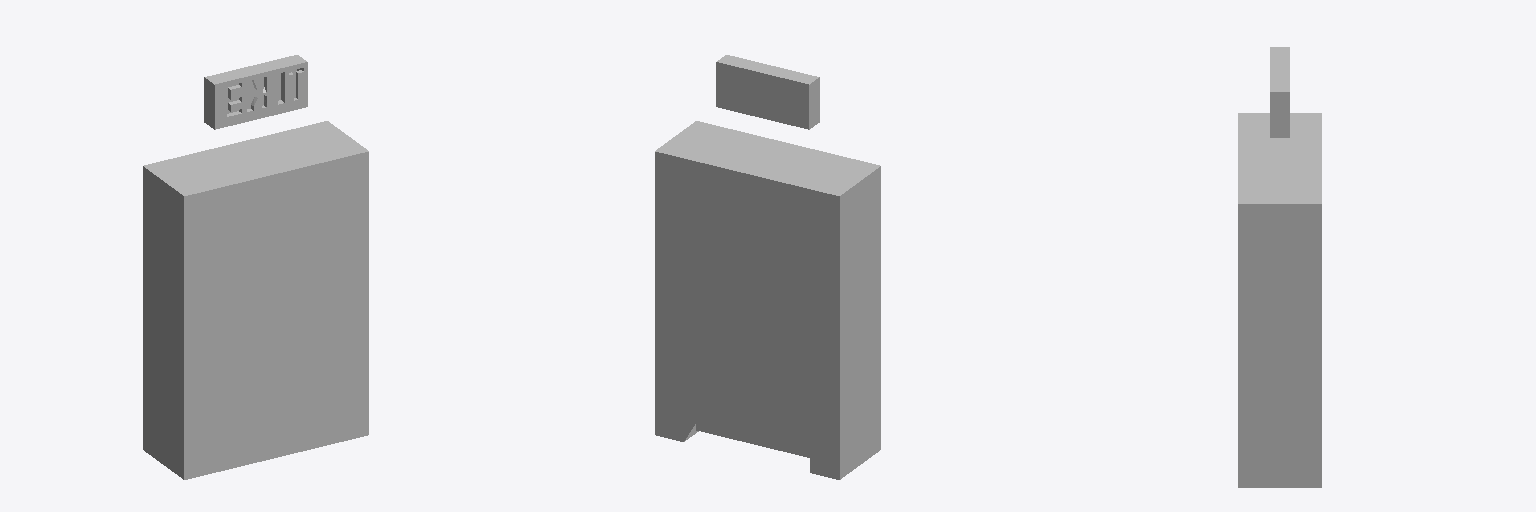
Rendered from exitDoor.obj.
3 views of the same model, side by side, from view 1: azimuth 30°, elevation 25°; view 2: azimuth 150°, elevation 25°; view 3: azimuth 270°, elevation 25° (orthographic).
Visible parts, largest first — view 1: pCube6, pCube7; view 2: pCube6, pCube7; view 3: pCube6, pCube7.
Part boxes in pixels (bbox=[...]): pCube6: bbox=[143, 121, 368, 479]; pCube7: bbox=[204, 55, 307, 129]; pCube6: bbox=[655, 121, 880, 479]; pCube7: bbox=[716, 55, 819, 129]; pCube6: bbox=[1238, 113, 1321, 487]; pCube7: bbox=[1270, 47, 1289, 137].
Size of the model in its own units: 1.99 by 3.83 by 0.7796.